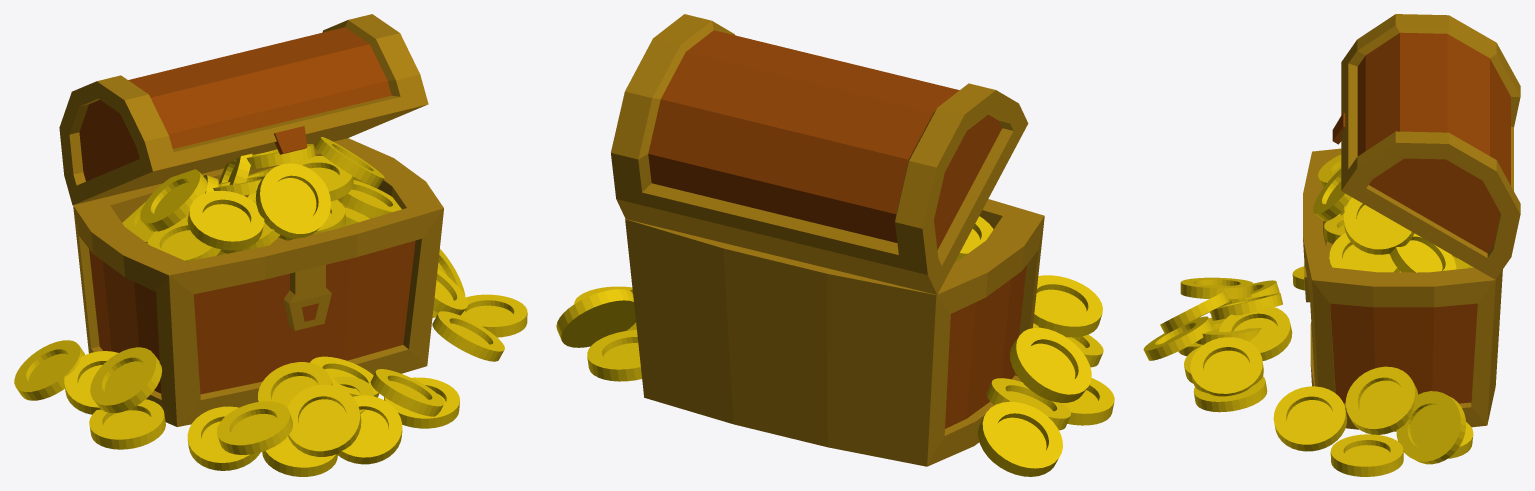
The model's file is Chest_Of_Gold.fbx.
3 renders of one model, left to right at view 1: azimuth 30°, elevation 25°; view 2: azimuth 150°, elevation 25°; view 3: azimuth 270°, elevation 25°, orthographic. The views are drawn at different scales.
Parts seen in each view (by area): view 1: Цилиндр.008; view 2: Цилиндр.008; view 3: Цилиндр.008.
Boxes of the visible parts, x1,y1,x2,y2 form: Цилиндр.008: (14,14,527,476); Цилиндр.008: (556,14,1114,476); Цилиндр.008: (1143,14,1520,476).
Bounding box in the file's own units: 201 × 129 × 148.
